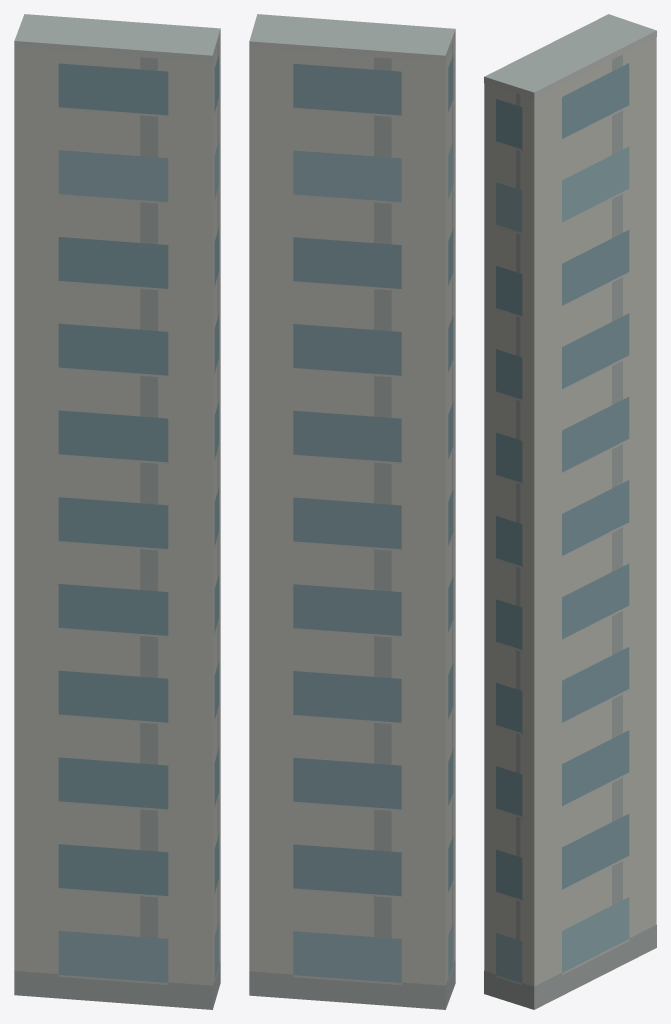
Rendered from survey-upis-32835819.glb.
3 views of the same model, side by side, from view 1: azimuth 30°, elevation 25°; view 2: azimuth 210°, elevation 25°; view 3: azimuth 270°, elevation 25° (orthographic). The views are drawn at different scales.
Parts seen in each view (by area): view 1: survey-upis-32835819.tmp; view 2: survey-upis-32835819.tmp; view 3: survey-upis-32835819.tmp.
Part boxes in pixels (<box>): survey-upis-32835819.tmp: <box>14,14,220,1009</box>; survey-upis-32835819.tmp: <box>249,14,455,1009</box>; survey-upis-32835819.tmp: <box>484,14,656,1009</box>.
Size of the model in its own units: 6.17 by 33.55 by 5.73.
